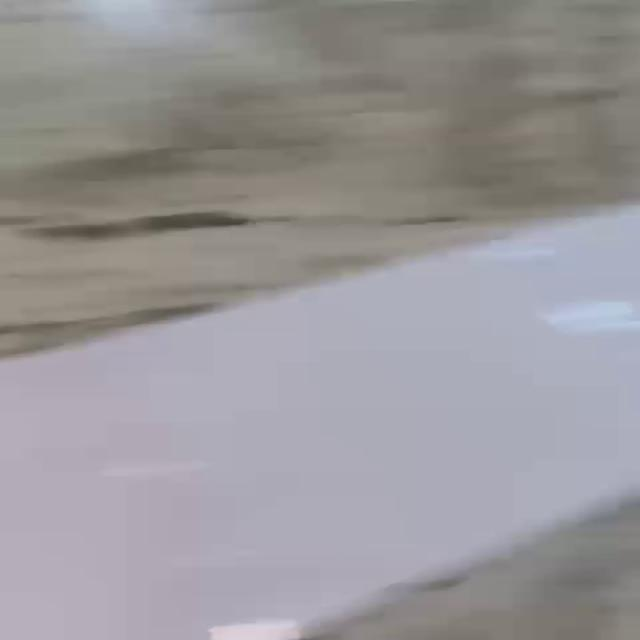road: (1, 211, 639, 640)
